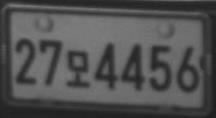2: (15, 37, 37, 85)
4: (120, 43, 145, 91), (94, 42, 118, 90)
5: (148, 45, 172, 91)
6: (176, 46, 199, 93)
7: (40, 39, 62, 86)
모: (65, 49, 90, 88)
